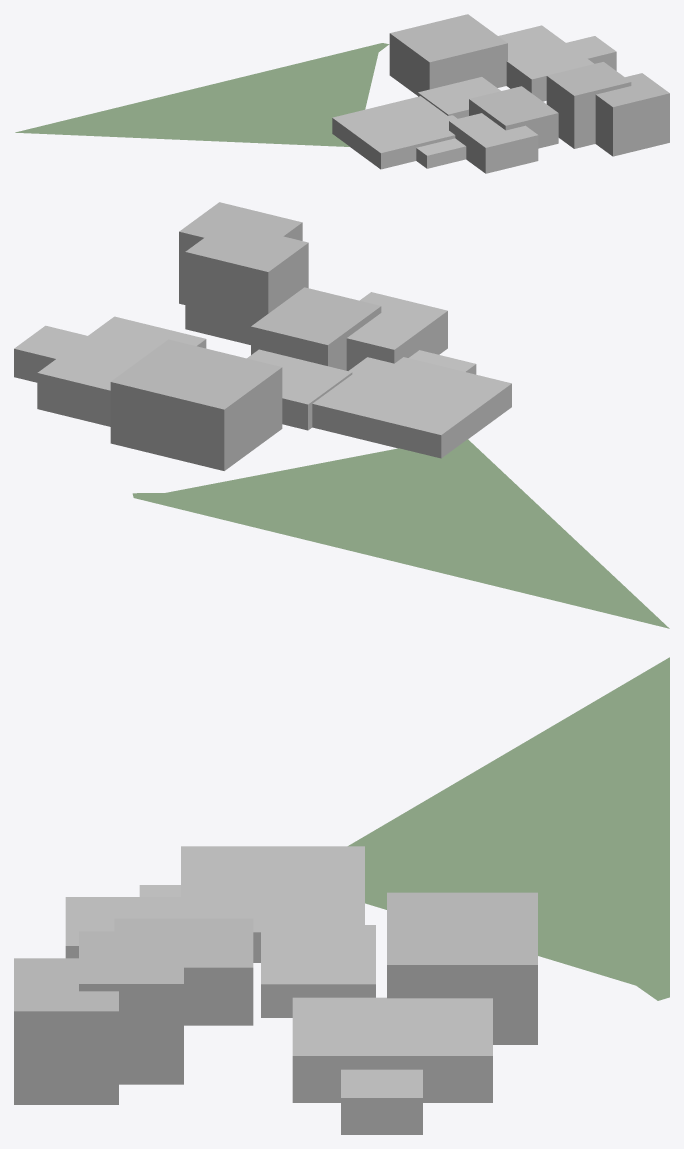
File: 111_115_mid.glb
3 views of the same model, one above another, from view 1: azimuth 30°, elevation 25°; view 2: azimuth 150°, elevation 25°; view 3: azimuth 270°, elevation 25° (orthographic). The views are drawn at different scales.
Bounding box in the file's own units: 483 × 47.82 × 281.
